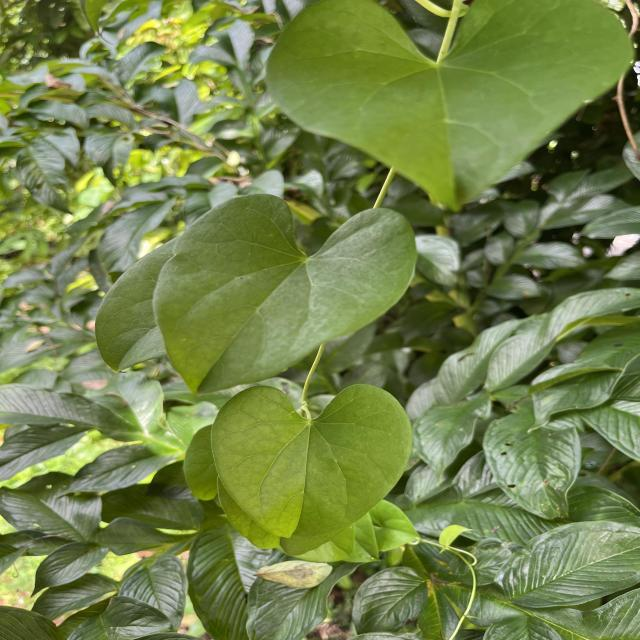Tinospora cordifolia: (150, 184, 421, 400), (206, 380, 418, 540)
